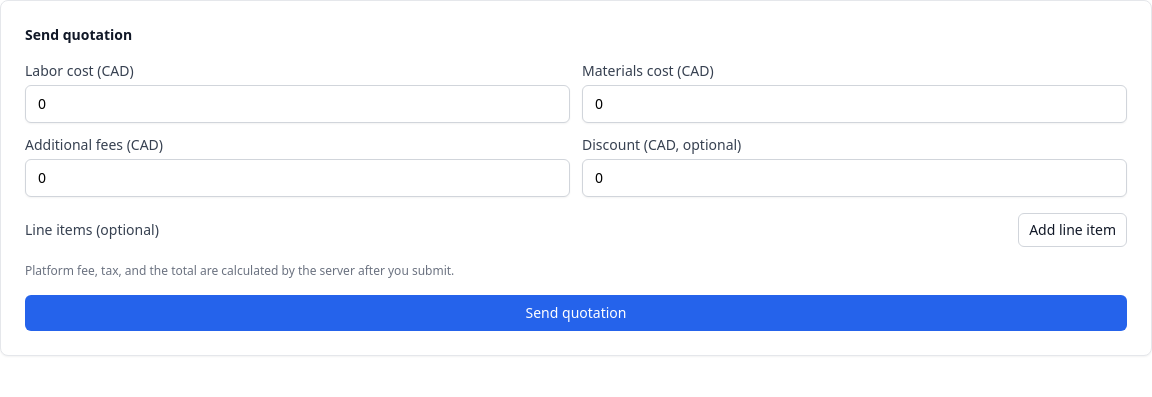
Test: QuotationBuilderForm › surfaces field-level 422 errors from the server on the matching inputs
The image size is (1152, 397).
Replace the text in the number field labelled "Labor cost (CAD)" with "100" at [298, 104], box x1=25 y1=85 x2=570 y2=123
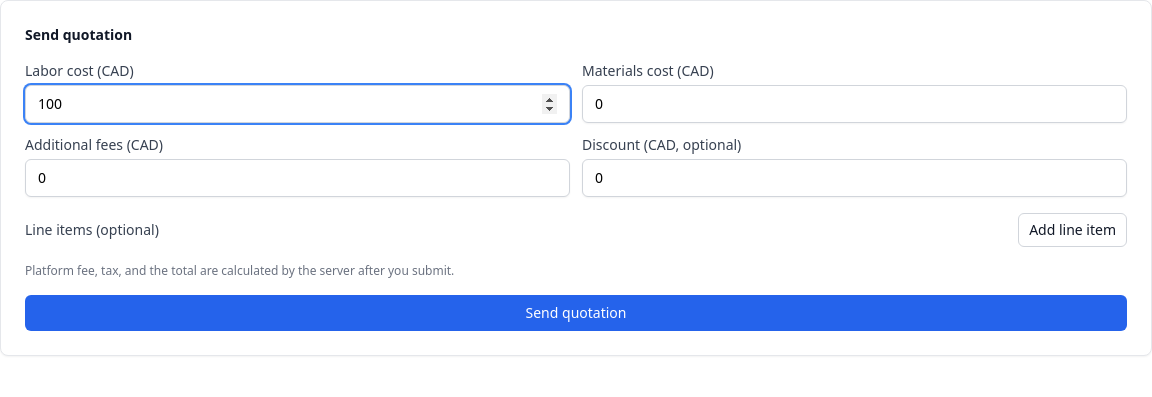
Replace the text in the number field labelled "Materials cost (CAD)" with "50" at [854, 104], box x1=582 y1=85 x2=1127 y2=123
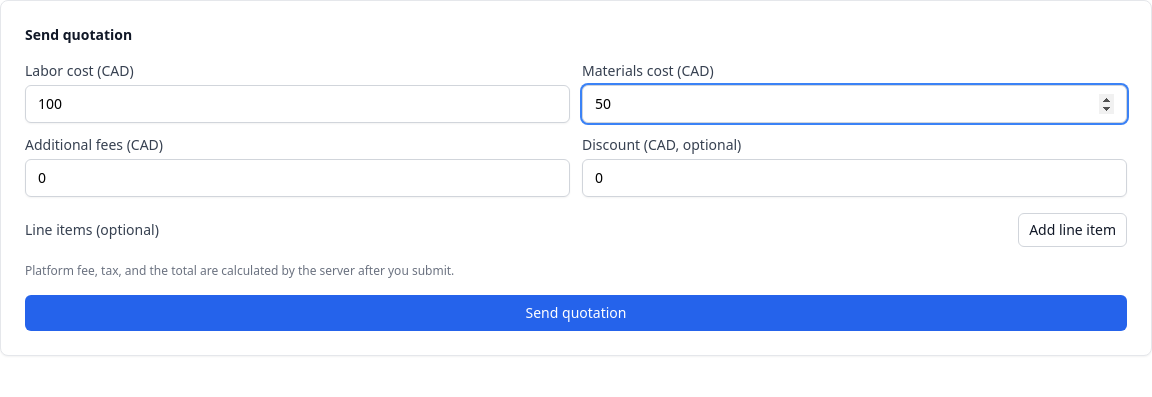
Replace the text in the number field labelled "Additional fees (CAD)" with "10" at [298, 178], box x1=25 y1=159 x2=570 y2=197
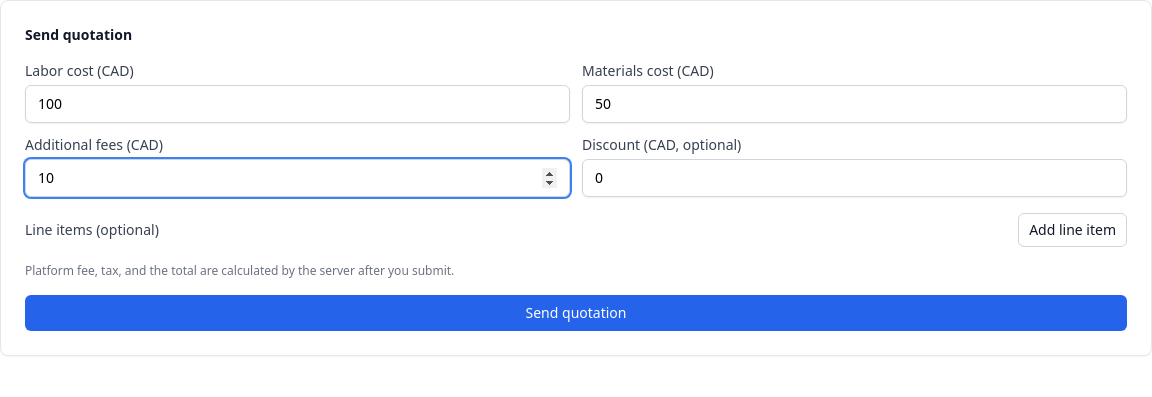
Click the button "Send quotation" at [576, 313], box x1=25 y1=295 x2=1127 y2=331
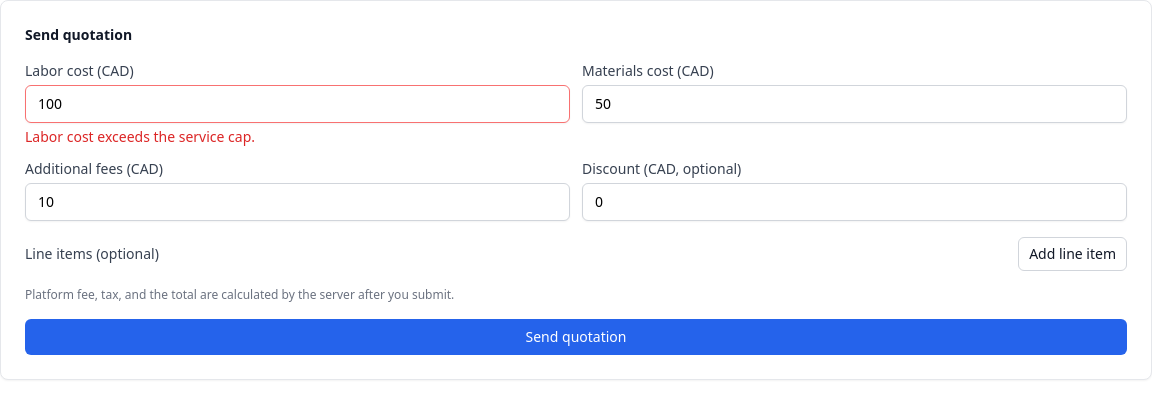
Expected: the text "Labor cost exceeds the service cap." is shown, x1=25 y1=127 x2=255 y2=146
